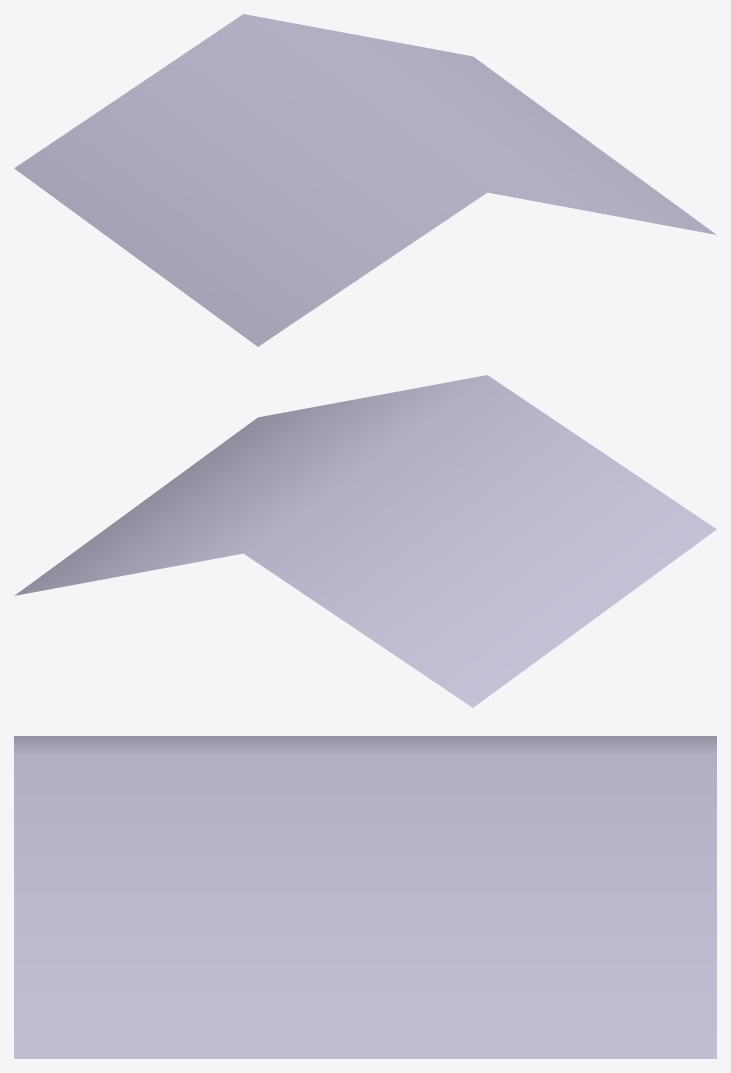
3 views of the same model, one above another, from view 1: azimuth 30°, elevation 25°; view 2: azimuth 150°, elevation 25°; view 3: azimuth 270°, elevation 25° (orthographic). The views are drawn at different scales.
Visible parts, largest first — view 1: Object57; view 2: Object57; view 3: Object57.
Boxes of the visible parts, bbox=[...] form: Object57: bbox=[14, 14, 716, 346]; Object57: bbox=[14, 375, 716, 707]; Object57: bbox=[14, 736, 716, 1058].
Size of the model in its own units: 14453 by 2960 by 13308.
